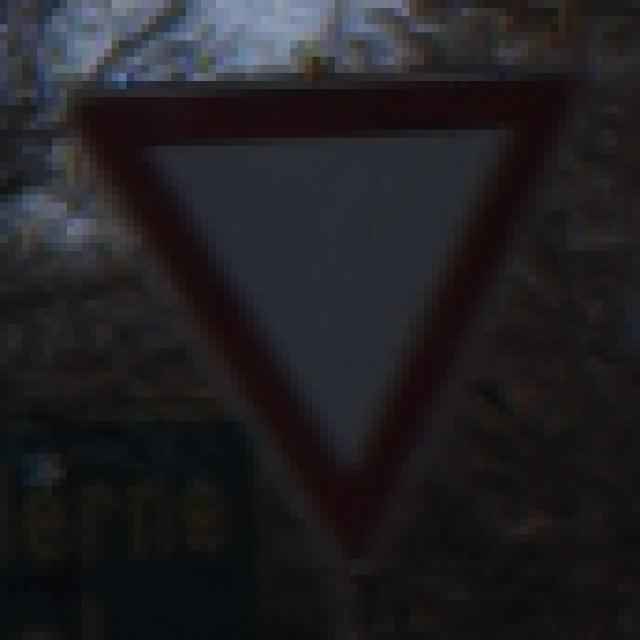Give Way: (53, 58, 589, 584)
